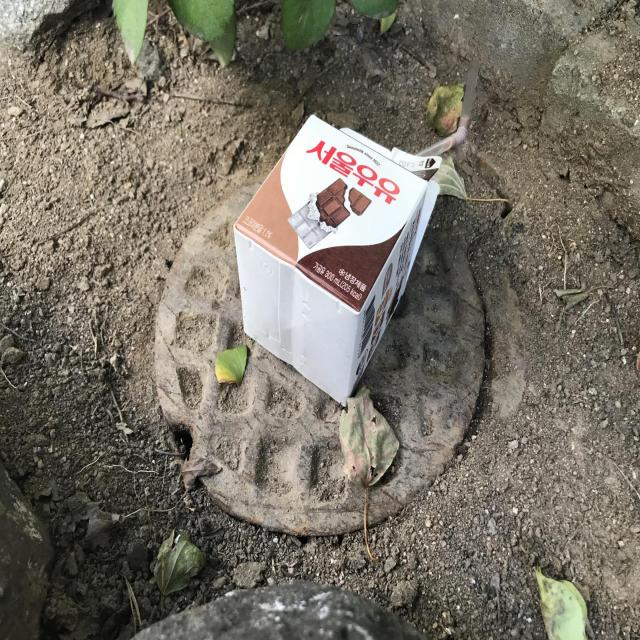paperpack: (234, 114, 442, 404)
